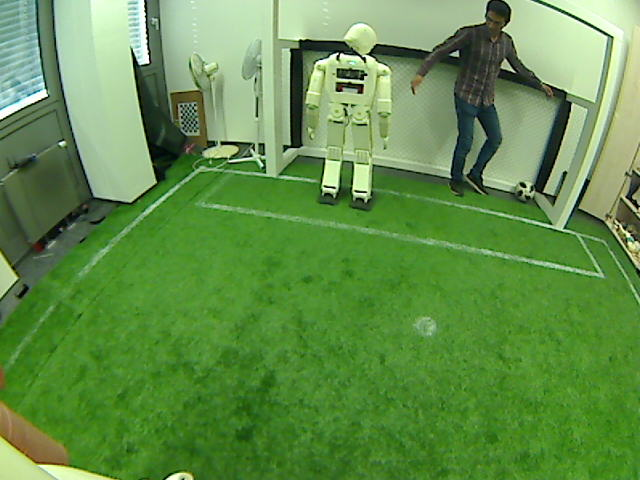ball: (513, 178, 535, 202)
goalpost: (548, 191, 567, 230), (262, 141, 279, 175)
robot: (309, 130, 375, 205)
